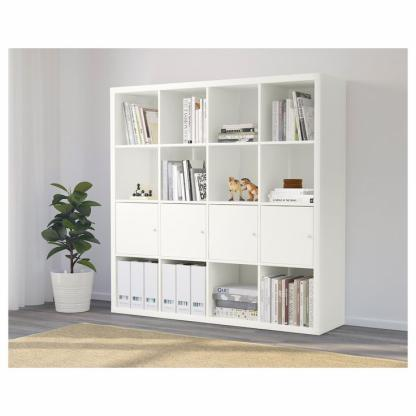lamp: (109, 72, 350, 338)
